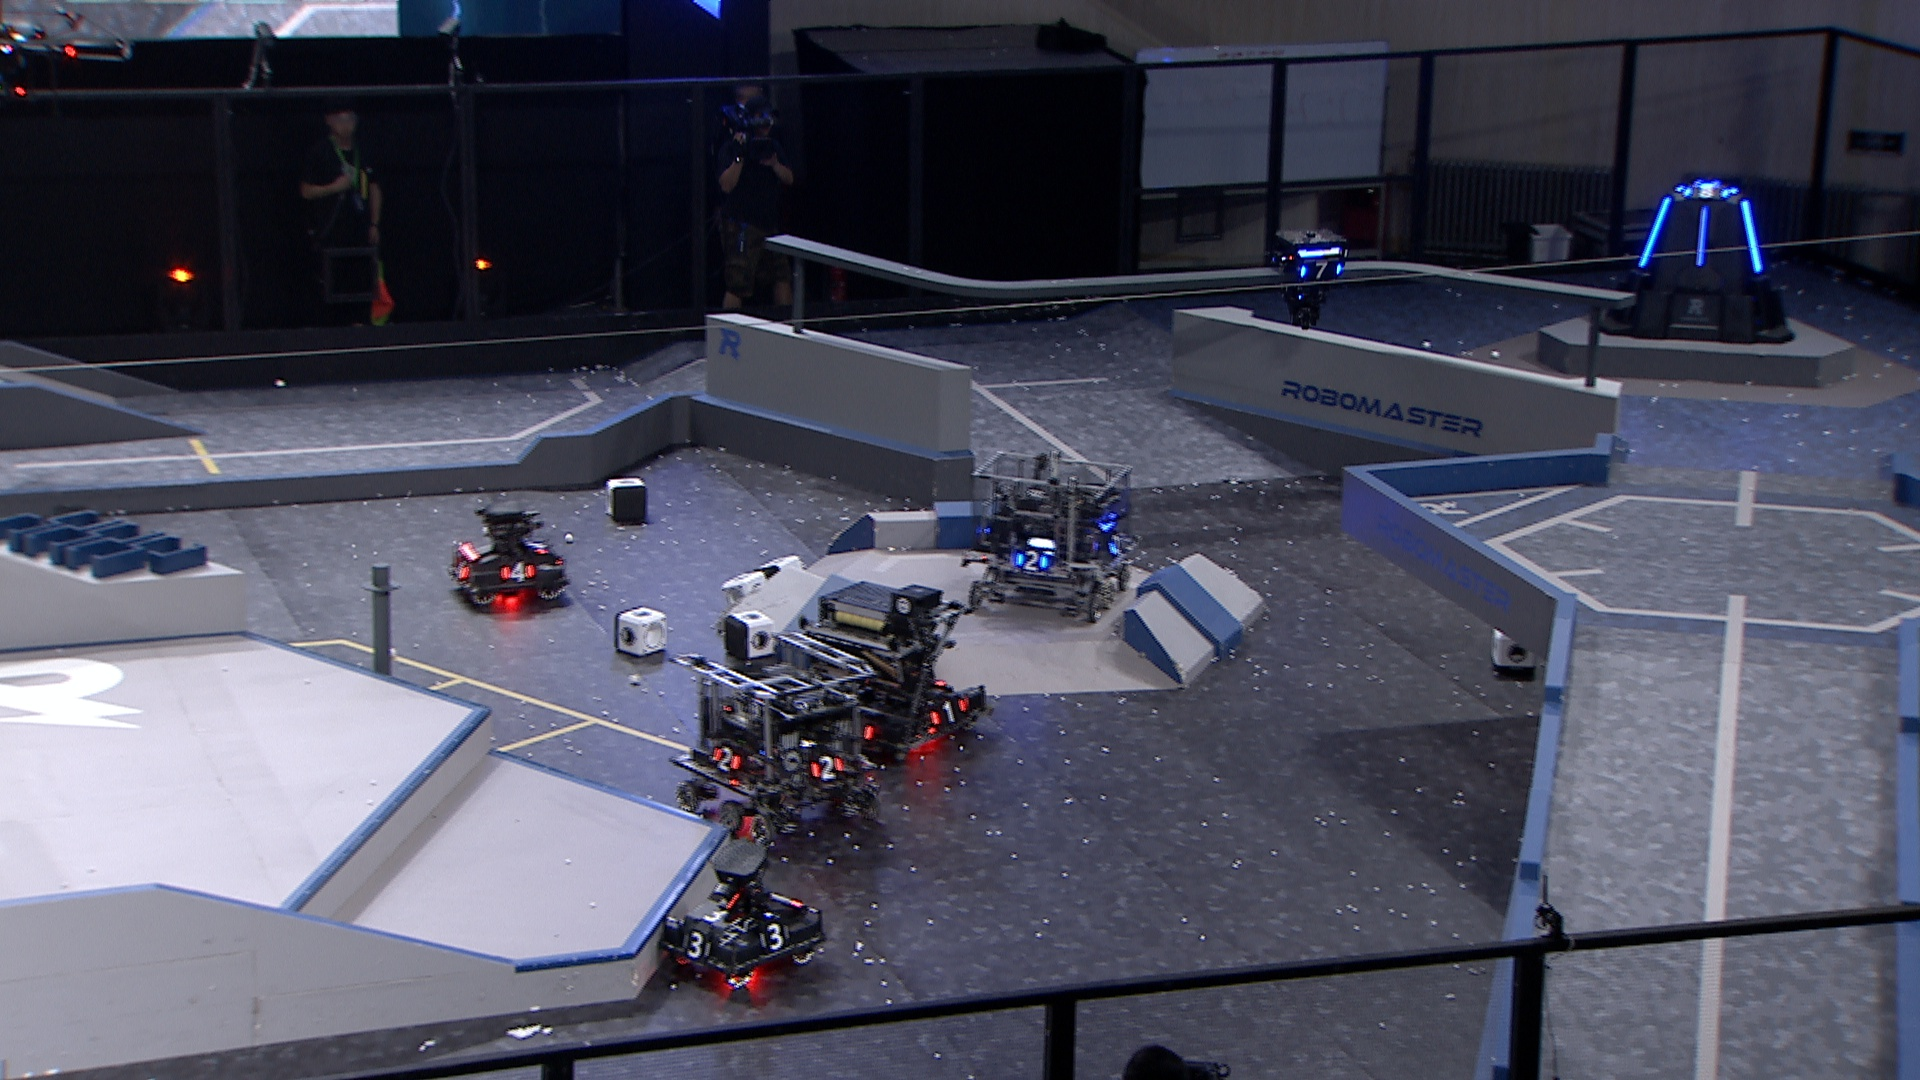armor: (1636, 196, 1676, 272), (1737, 196, 1764, 276), (930, 698, 967, 728), (1695, 206, 1712, 270), (1296, 258, 1344, 281), (808, 756, 844, 785), (680, 928, 712, 960), (709, 745, 741, 774), (698, 905, 740, 926), (1683, 183, 1730, 202), (1013, 549, 1050, 572), (498, 560, 537, 583), (760, 924, 790, 949), (1105, 531, 1126, 556), (448, 556, 468, 580), (527, 538, 550, 555)
base: (1602, 178, 1797, 347)
car: (665, 629, 882, 843), (794, 583, 986, 766), (957, 451, 1135, 626), (659, 847, 832, 997), (447, 498, 570, 605)
watcher: (1269, 225, 1352, 330)
